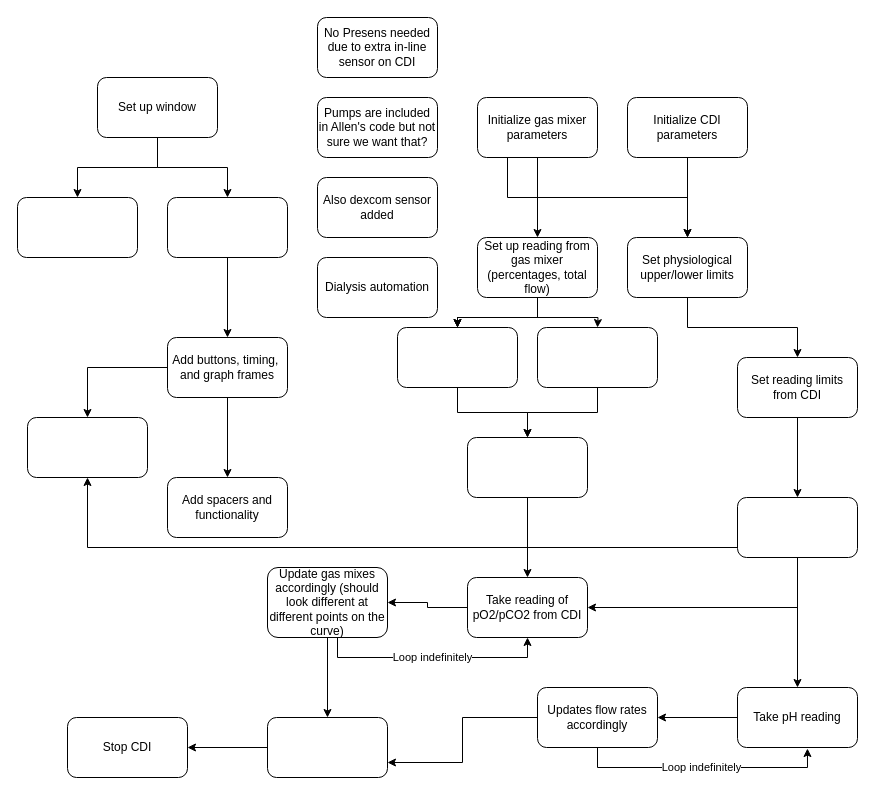
Image size: 875x795. Some labels were removed from this diagram. Each missing label, with the centre of its shape:
"Arterial" goes at point 597,357.
"Create frame for x-axes" goes at point 77,227.
"Initialize readout panel layout" goes at point 227,227.
"Start CDI" goes at point 797,527.
"Start flow" goes at point 527,467.
"Stop flow at end of run" goes at point 327,747.
"Stream and plot data" goes at point 87,447.
"Venous" goes at point 457,357.
